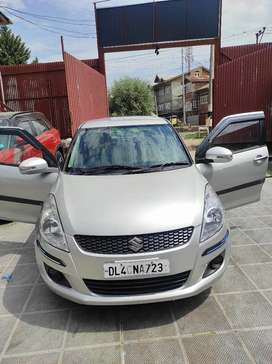DL40NA7238: (103, 259, 170, 277)
